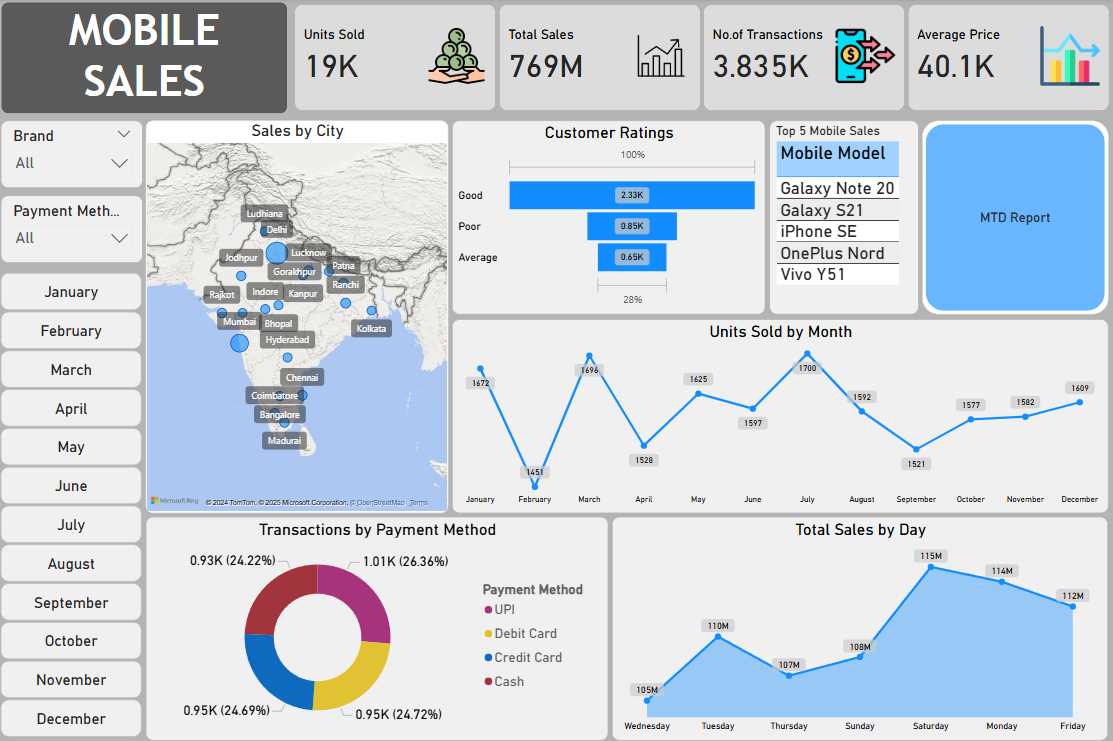

What the dashboard file says about the page in this screenshot:
{"tool":"powerbi","page":{"name":"Dashboard","canvas":[1500,1000],"ordinal":0},"visuals":[{"type":"shape","box":[1240,165,250,260],"z":0},{"type":"lineChart","title":"Units Sold by Month","fields":{"Category":["Custom Calender.Date.Variation.Date Hierarchy.Month"],"Y":["Sum(Moble Sales Data.Units Sold)"]},"box":[610,430,880,260],"z":1000},{"type":"advancedSlicerVisual","fields":{"Values":["Custom Calender.Date.Variation.Date Hierarchy.Month"]},"box":[0,363.6,199.4,636.7],"z":2000},{"type":"cardVisual","fields":{"Data":["Sum(Moble Sales Data.Units Sold)","Moble Sales Data.Total Sales","CountNonNull(Moble Sales Data.Transaction ID)","Avg(Moble Sales Data.Price Per Unit)"]},"box":[390,0,1110,160],"z":3000},{"type":"textbox","box":[5,5,385,150],"z":4000},{"type":"map","title":"Sales by City","fields":{"Category":["Moble Sales Data.City"],"Size":["Moble Sales Data.Total Sales"]},"box":[199.4,164.2,405.5,526.1],"z":5000},{"type":"funnel","title":"Customer Ratings","fields":{"Y":["CountNonNull(Moble Sales Data.Customer Ratings)"],"Category":["Moble Sales Data.Rating Type"]},"box":[610,165,420,260],"z":6000},{"type":"slicer","fields":{"Values":["Moble Sales Data.Brand"]},"box":[5,165,190,90],"z":7000},{"type":"slicer","fields":{"Values":["Moble Sales Data.Payment Method"]},"box":[5,265,190,90],"z":8000},{"type":"stackedAreaChart","title":"Total Sales by Day","fields":{"Y":["Moble Sales Data.Total Sales"],"Category":["Custom Calender.Day Name"]},"box":[825,695,665,300],"z":9000},{"type":"tableEx","title":"Top 5 Mobile Sales","fields":{"Values":["Moble Sales Data.Mobile Model"]},"box":[1035,165,200,260],"z":10000},{"type":"donutChart","title":"Transactions by Payment Method","fields":{"Y":["CountNonNull(Moble Sales Data.Transaction ID)"],"Category":["Moble Sales Data.Payment Method"]},"box":[200,695.4,620,300],"z":11000},{"type":"pageNavigator","box":[1245,170,240,250],"z":12000}]}

Visuals, with their boxes in screenshot pixels (x1, y1, x2, y2), scaled from the page's 1500x1000 canvas onto the 1113x741 screenshot:
shape: bbox=(920, 122, 1106, 315)
"Units Sold by Month" lineChart: bbox=(453, 319, 1106, 511)
advancedSlicerVisual - Custom Calender.Date.Variation.Date Hierarchy.Month: bbox=(0, 269, 148, 740)
cardVisual - Sum(Moble Sales Data.Units Sold) x Moble Sales Data.Total Sales: bbox=(289, 0, 1112, 119)
textbox: bbox=(4, 4, 289, 115)
"Sales by City" map: bbox=(148, 122, 449, 512)
"Customer Ratings" funnel: bbox=(453, 122, 764, 315)
slicer - Moble Sales Data.Brand: bbox=(4, 122, 145, 189)
slicer - Moble Sales Data.Payment Method: bbox=(4, 196, 145, 263)
"Total Sales by Day" stackedAreaChart: bbox=(612, 515, 1106, 737)
"Top 5 Mobile Sales" tableEx: bbox=(768, 122, 916, 315)
"Transactions by Payment Method" donutChart: bbox=(148, 515, 608, 738)
pageNavigator: bbox=(924, 126, 1102, 311)
